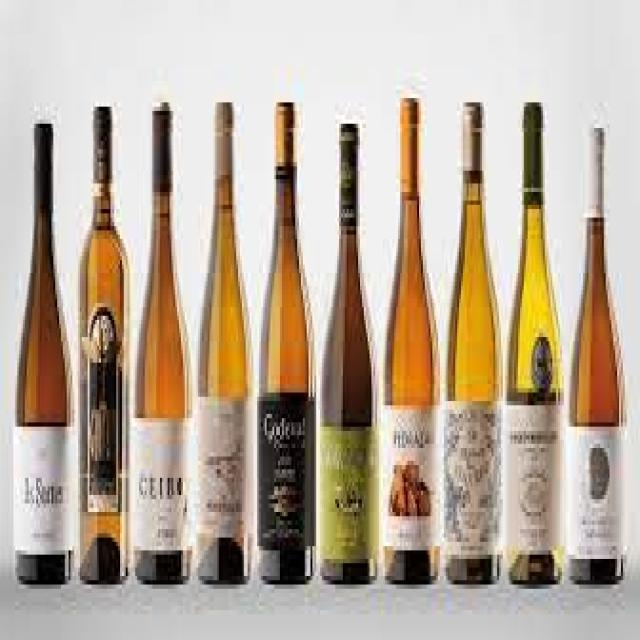Vidrio: (318, 91, 384, 592), (135, 89, 197, 599), (384, 70, 443, 596), (562, 112, 626, 596), (441, 87, 502, 590), (505, 73, 563, 599), (12, 102, 73, 598), (206, 57, 250, 599)
